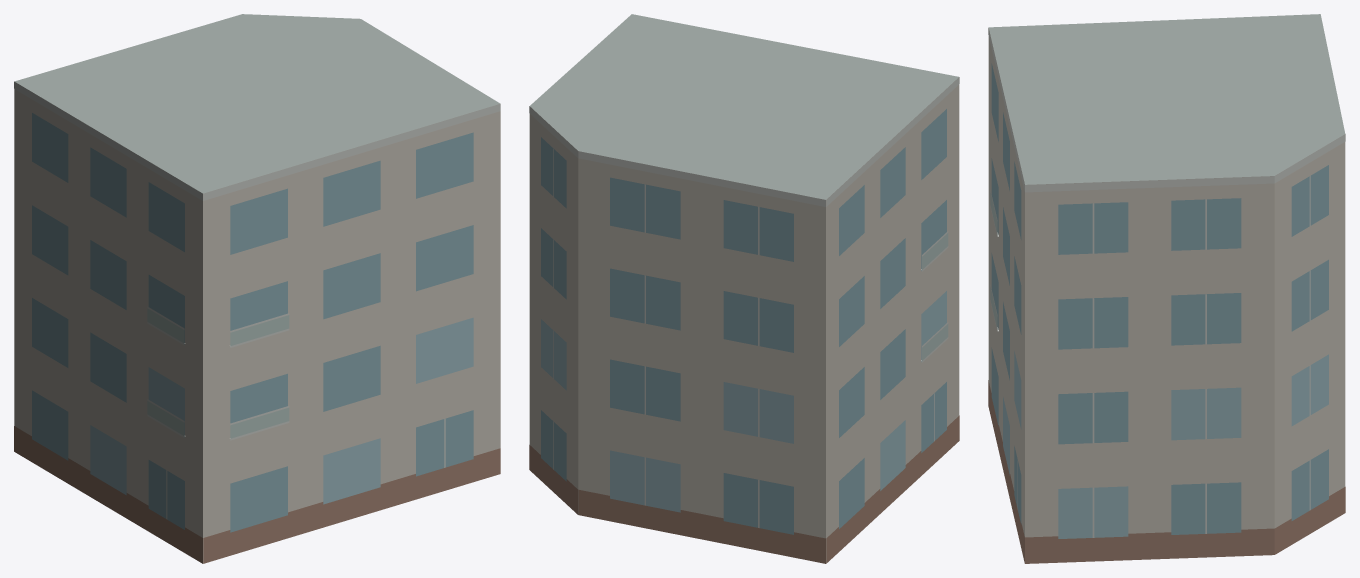
Rendered from survey-upis-32655340.glb.
3 renders of one model, left to right at view 1: azimuth 30°, elevation 25°; view 2: azimuth 150°, elevation 25°; view 3: azimuth 270°, elevation 25°, orthographic. The views are drawn at different scales.
Parts seen in each view (by area): view 1: survey-upis-32655340.tmp; view 2: survey-upis-32655340.tmp; view 3: survey-upis-32655340.tmp.
Part boxes in pixels (<box>): survey-upis-32655340.tmp: <box>14,14,500,563</box>; survey-upis-32655340.tmp: <box>529,14,959,563</box>; survey-upis-32655340.tmp: <box>988,14,1345,563</box>.
Size of the model in its own units: 11.8 by 12.2 by 10.42.
